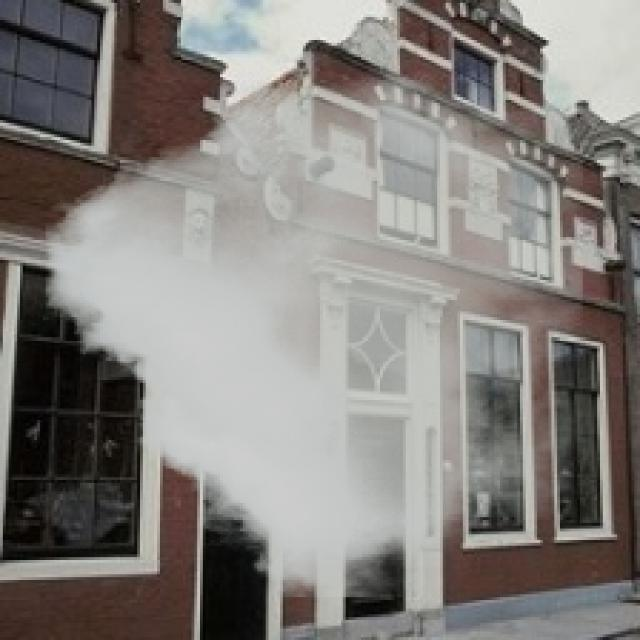smoke: (46, 72, 583, 597)
